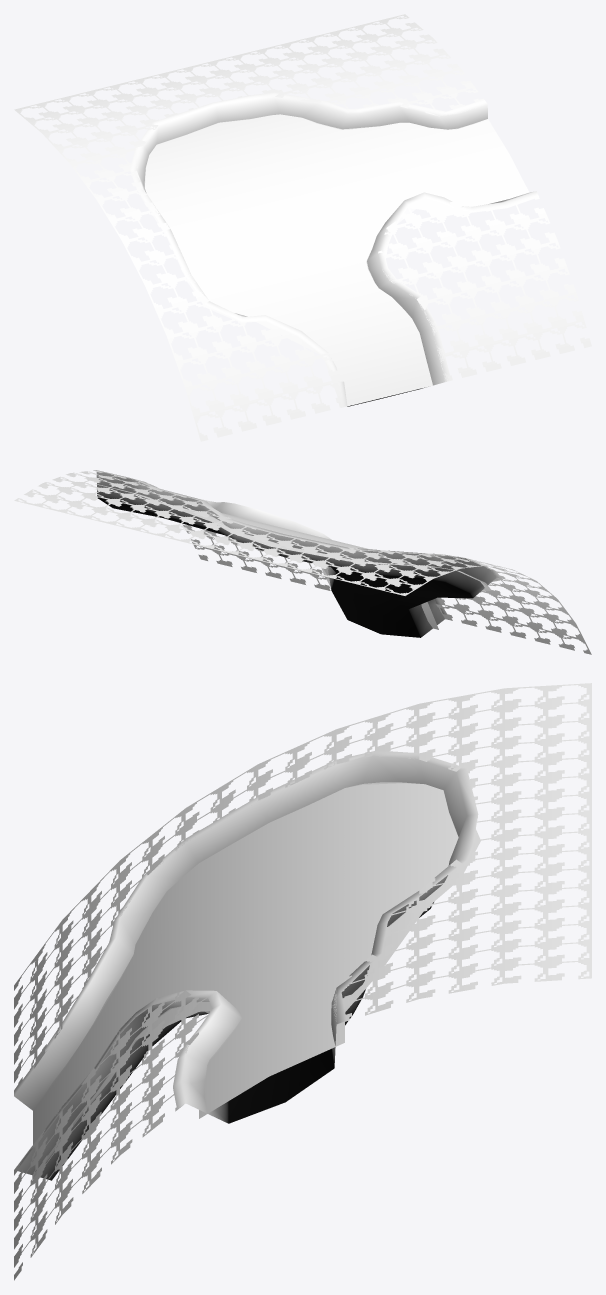
The model's file is grd_Rws_P_0.dae.
3 renders of one model, top to bottom at view 1: azimuth 30°, elevation 25°; view 2: azimuth 150°, elevation 25°; view 3: azimuth 270°, elevation 25°, orthographic. The views are drawn at different scales.
Parts seen in each view (by area): view 1: grd_Rws_P_0; view 2: grd_Rws_P_0; view 3: grd_Rws_P_0.
Boxes of the visible parts, x1,y1,x2,y2 form: grd_Rws_P_0: [14, 14, 591, 441]; grd_Rws_P_0: [14, 470, 591, 654]; grd_Rws_P_0: [14, 683, 591, 1280].
Size of the model in its own units: 512 by 264 by 423.
Materials: 4 (1 with a texture image).
